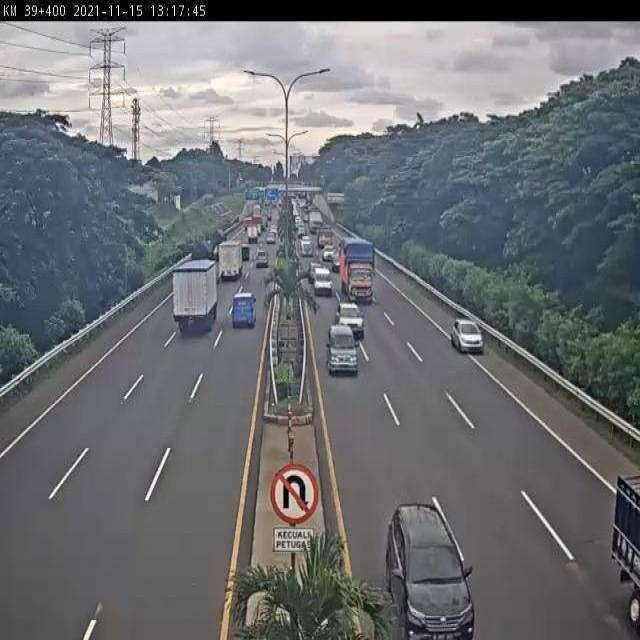bus-s-: (231, 292, 257, 329)
car: (386, 505, 472, 640), (326, 326, 362, 378), (450, 318, 487, 354), (334, 300, 366, 340), (313, 267, 332, 297)
truck-l-: (338, 230, 378, 306)
truck-m-: (166, 257, 220, 335), (216, 238, 243, 282)
